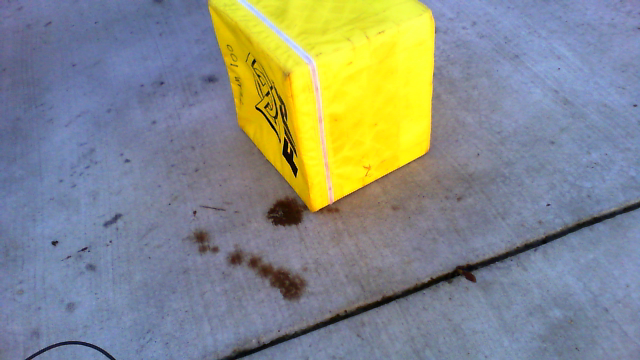cube: (206, 1, 436, 214)
